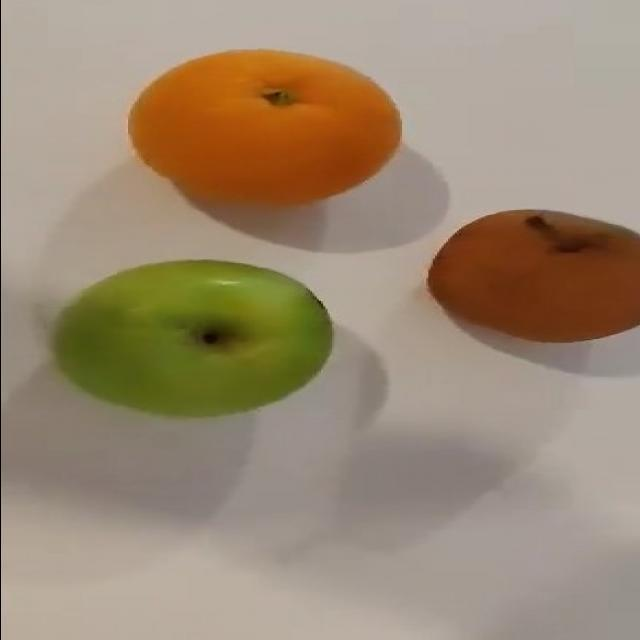Apple: (48, 255, 334, 422)
Orange: (126, 46, 406, 211)
